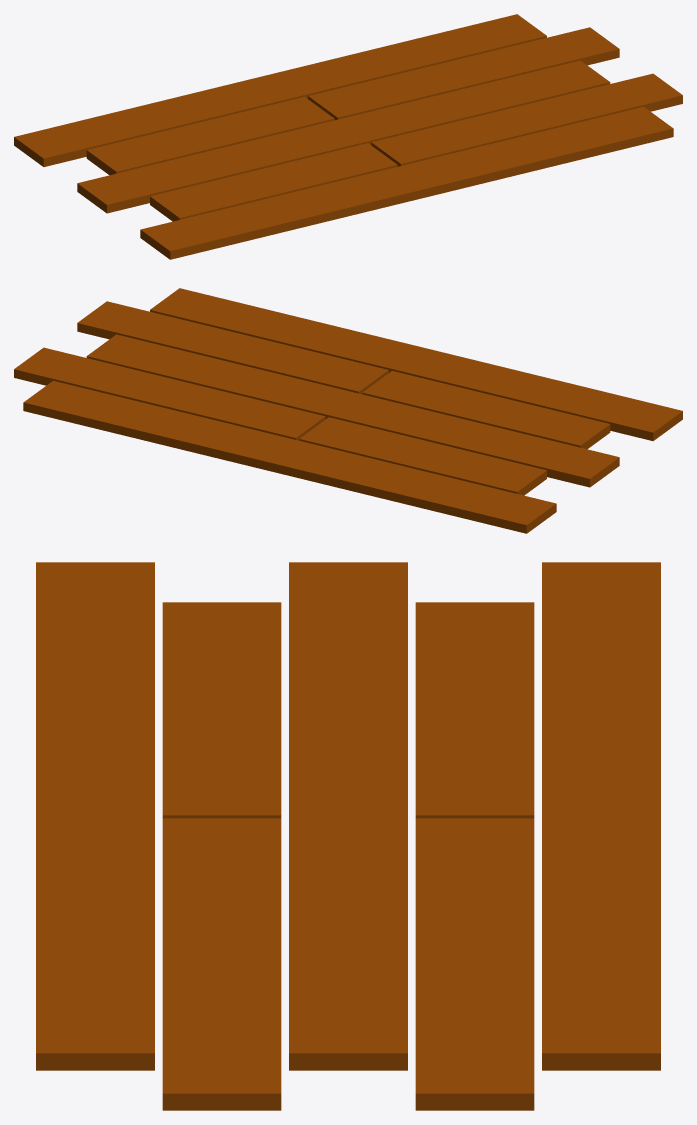
Rendered from RPG_Tiles_Square_Wooden_Boards_Double_02.FBX.
The picture shows the model from 3 angles, top to bottom: view 1: azimuth 30°, elevation 25°; view 2: azimuth 150°, elevation 25°; view 3: azimuth 270°, elevation 25°; orthographic projection. The views are drawn at different scales.
Visible parts, largest first — view 1: RPG_Tiles_Square_Wooden_Boards_Double_02; view 2: RPG_Tiles_Square_Wooden_Boards_Double_02; view 3: RPG_Tiles_Square_Wooden_Boards_Double_02.
Boxes of the visible parts, box(x1,y1,x2,y2) form: RPG_Tiles_Square_Wooden_Boards_Double_02: box(14, 14, 682, 259); RPG_Tiles_Square_Wooden_Boards_Double_02: box(14, 288, 682, 533); RPG_Tiles_Square_Wooden_Boards_Double_02: box(36, 562, 660, 1110).
Size of the model in its own units: 5964 by 90 by 2964.
